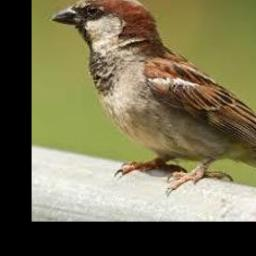Sparrow: (51, 0, 256, 196)
